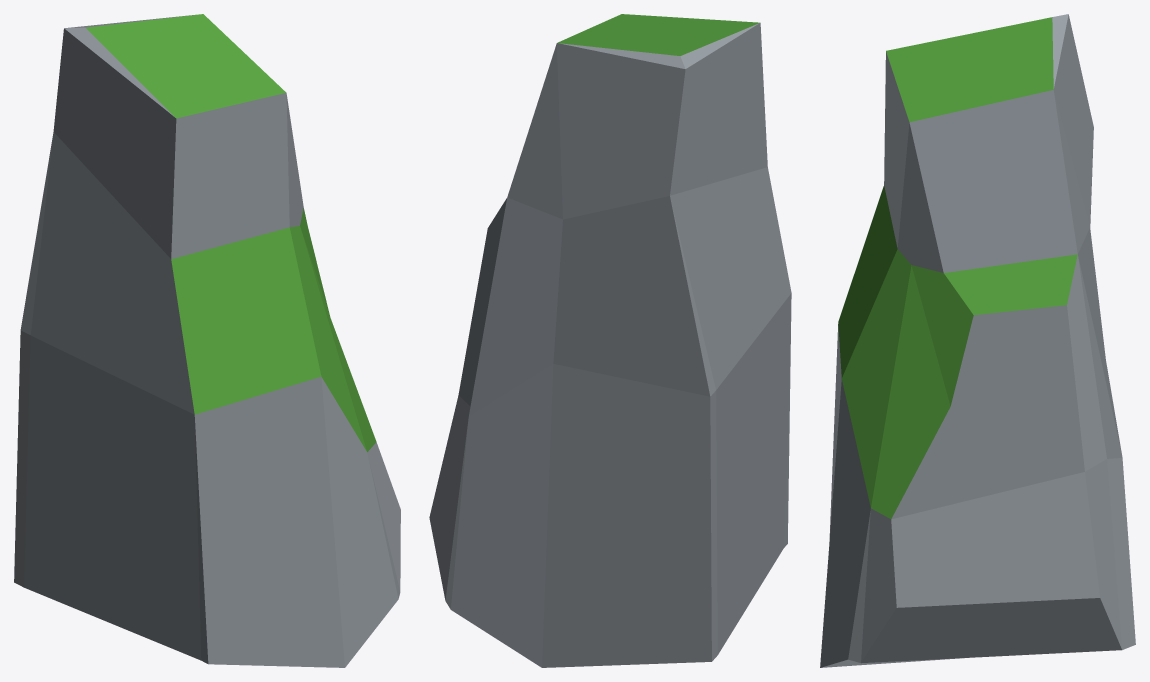
The model's file is mossy-rock-tall.glb.
The picture shows the model from 3 angles, left to right: view 1: azimuth 30°, elevation 25°; view 2: azimuth 150°, elevation 25°; view 3: azimuth 270°, elevation 25°; orthographic projection. The views are drawn at different scales.
Parts seen in each view (by area): view 1: Rock_Moss_1; view 2: Rock_Moss_1; view 3: Rock_Moss_1.
Part boxes in pixels (box(x1,y1,x2,y2)): Rock_Moss_1: box(14, 14, 400, 667); Rock_Moss_1: box(429, 14, 791, 667); Rock_Moss_1: box(820, 14, 1135, 667).
Size of the model in its own units: 0.9706 by 1.9 by 0.9334.
